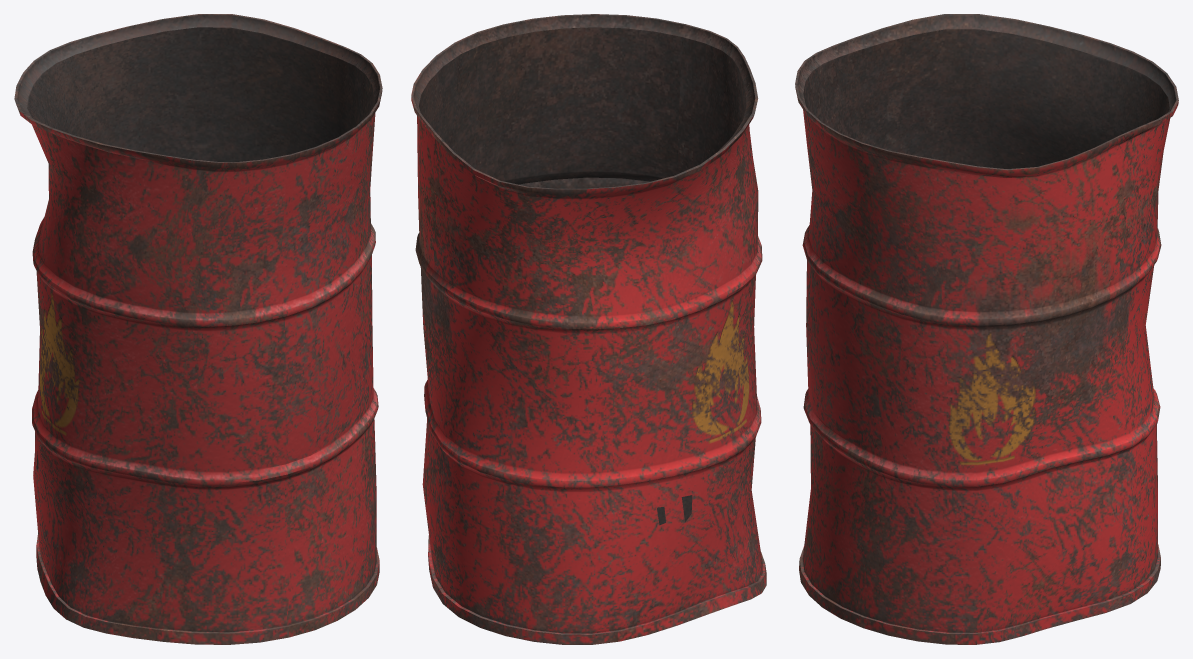
File: barrel_cut_crush.fbx
The picture shows the model from 3 angles, left to right: view 1: azimuth 30°, elevation 25°; view 2: azimuth 150°, elevation 25°; view 3: azimuth 270°, elevation 25°; orthographic projection.
Parts seen in each view (by area): view 1: barrel_cut; view 2: barrel_cut; view 3: barrel_cut.
Boxes of the visible parts, <box> form: barrel_cut: <box>14,14,382,644</box>; barrel_cut: <box>411,14,766,644</box>; barrel_cut: <box>795,14,1178,644</box>.
Size of the model in its own units: 60.85 by 90.08 by 64.47.
1 material, 1 textured.
